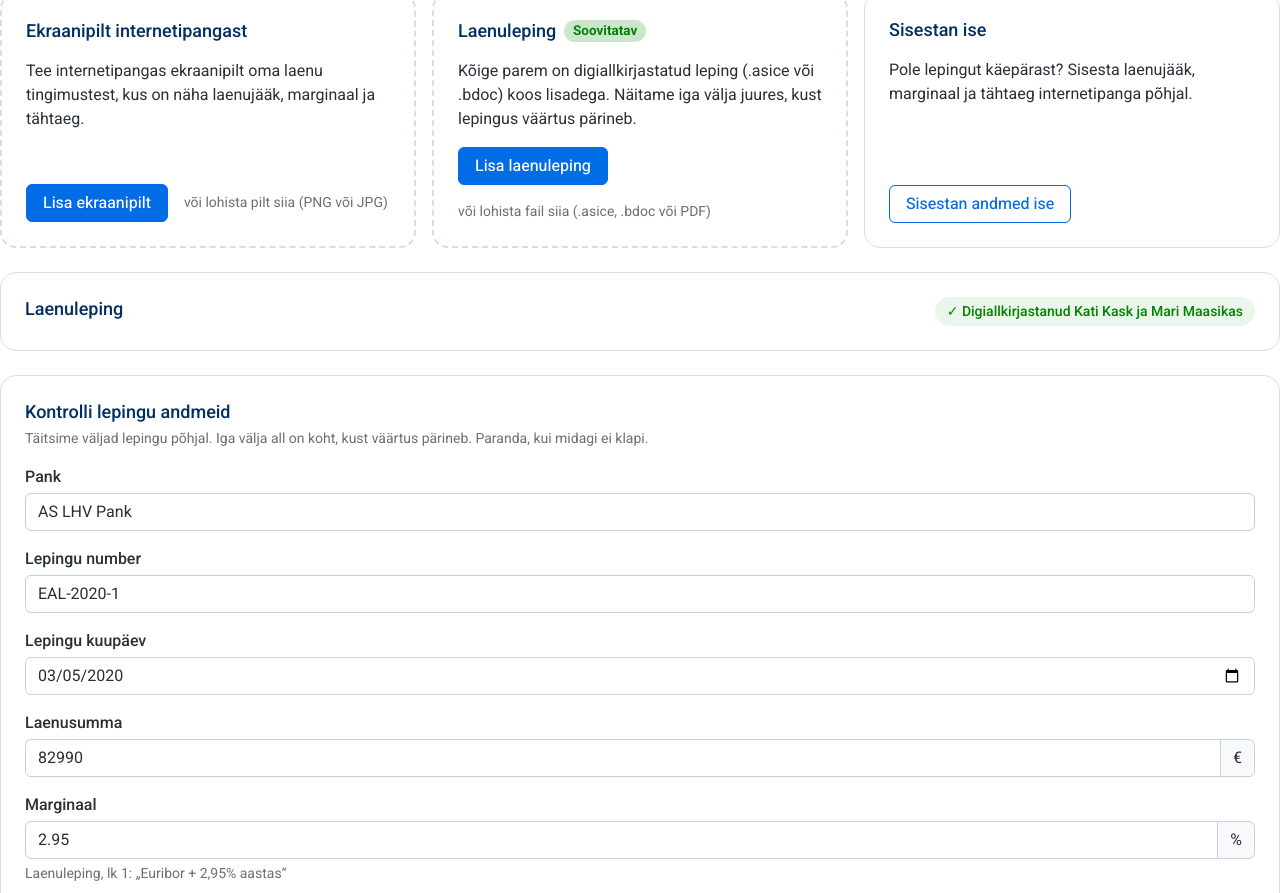
Test: LoanStep › requires the key fields
Clear the field labelled "Marginaal" at (622, 840), box [25,821,1218,859]
(page scrolled)
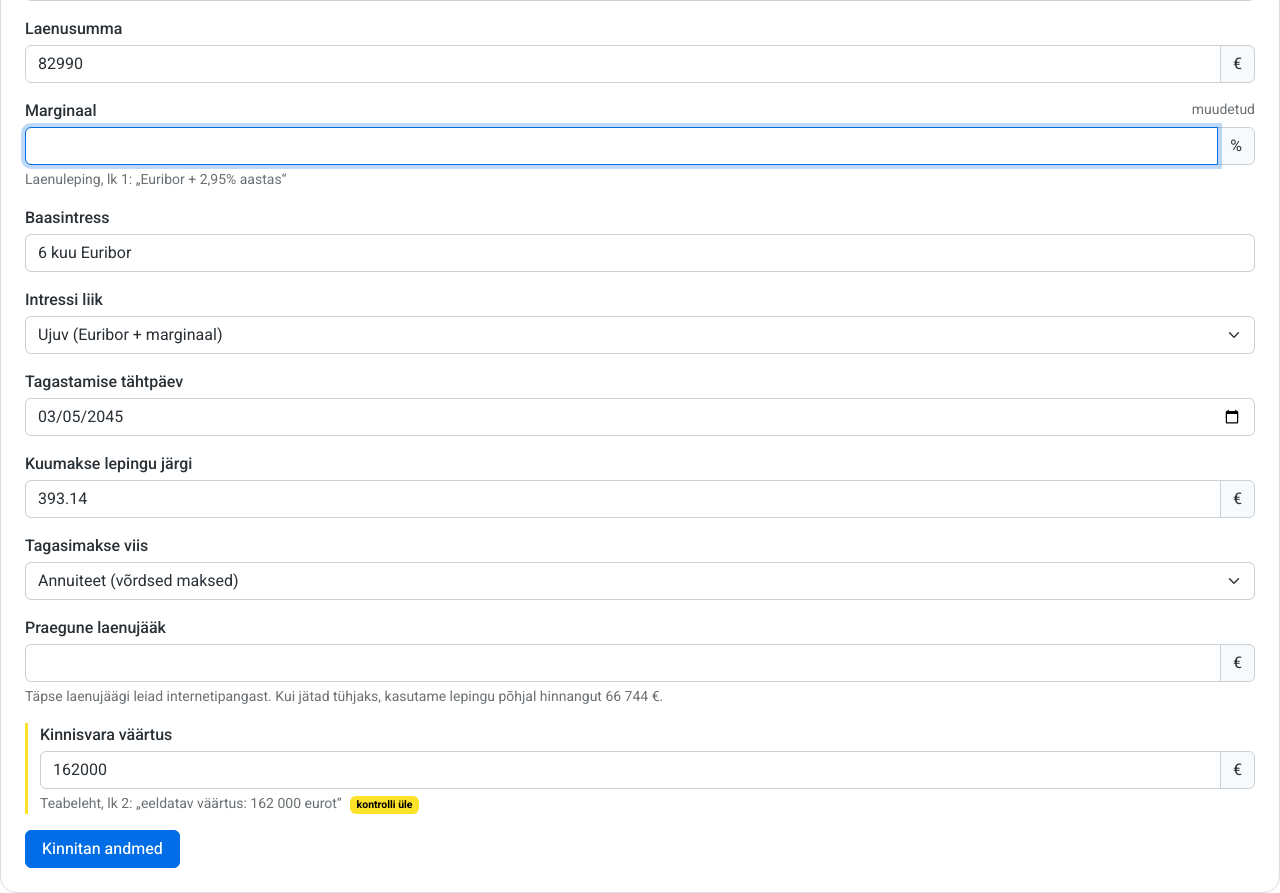
Click the button "Kinnitan andmed" at (102, 849), box [25,830,180,868]
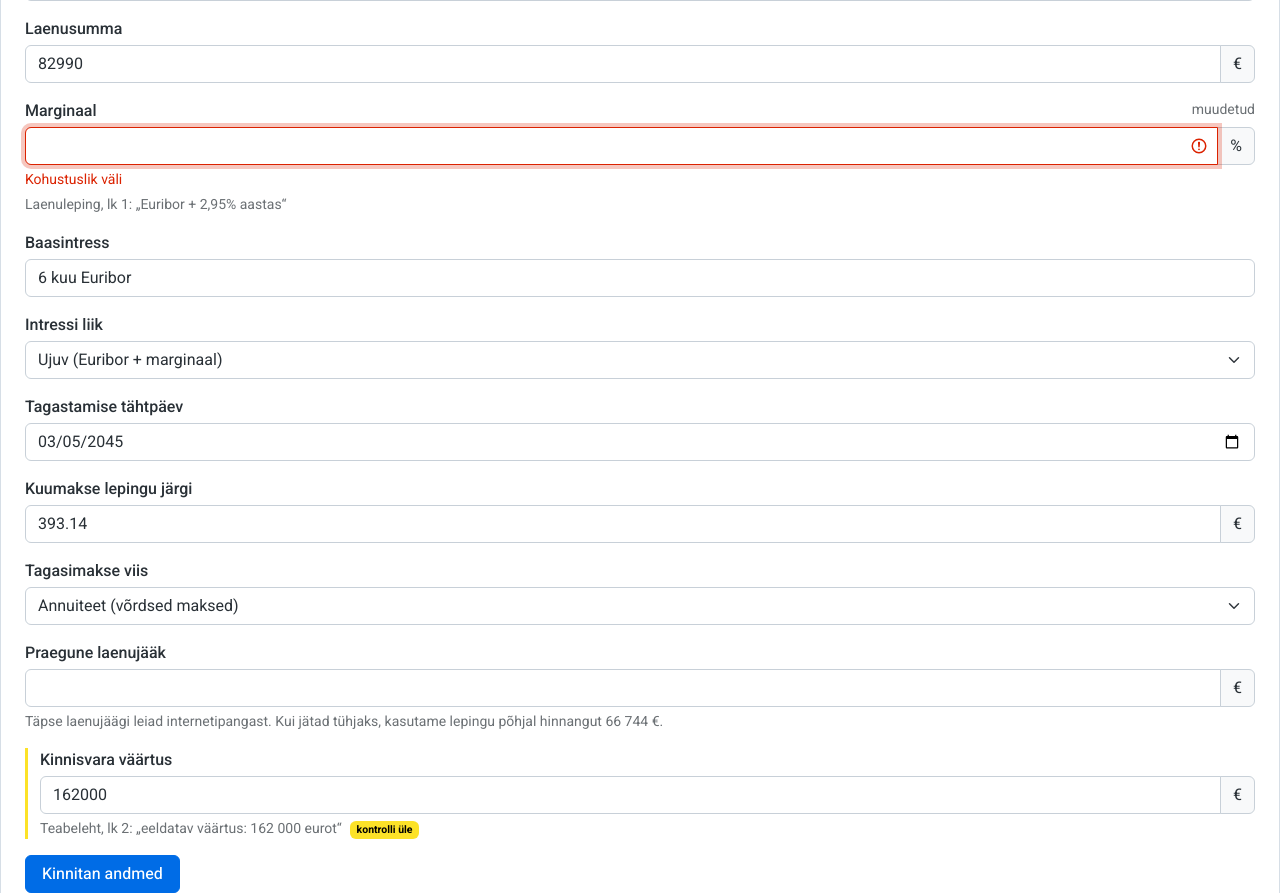
expect the text "Kohustuslik väli" is shown: met, box [25,171,122,187]
